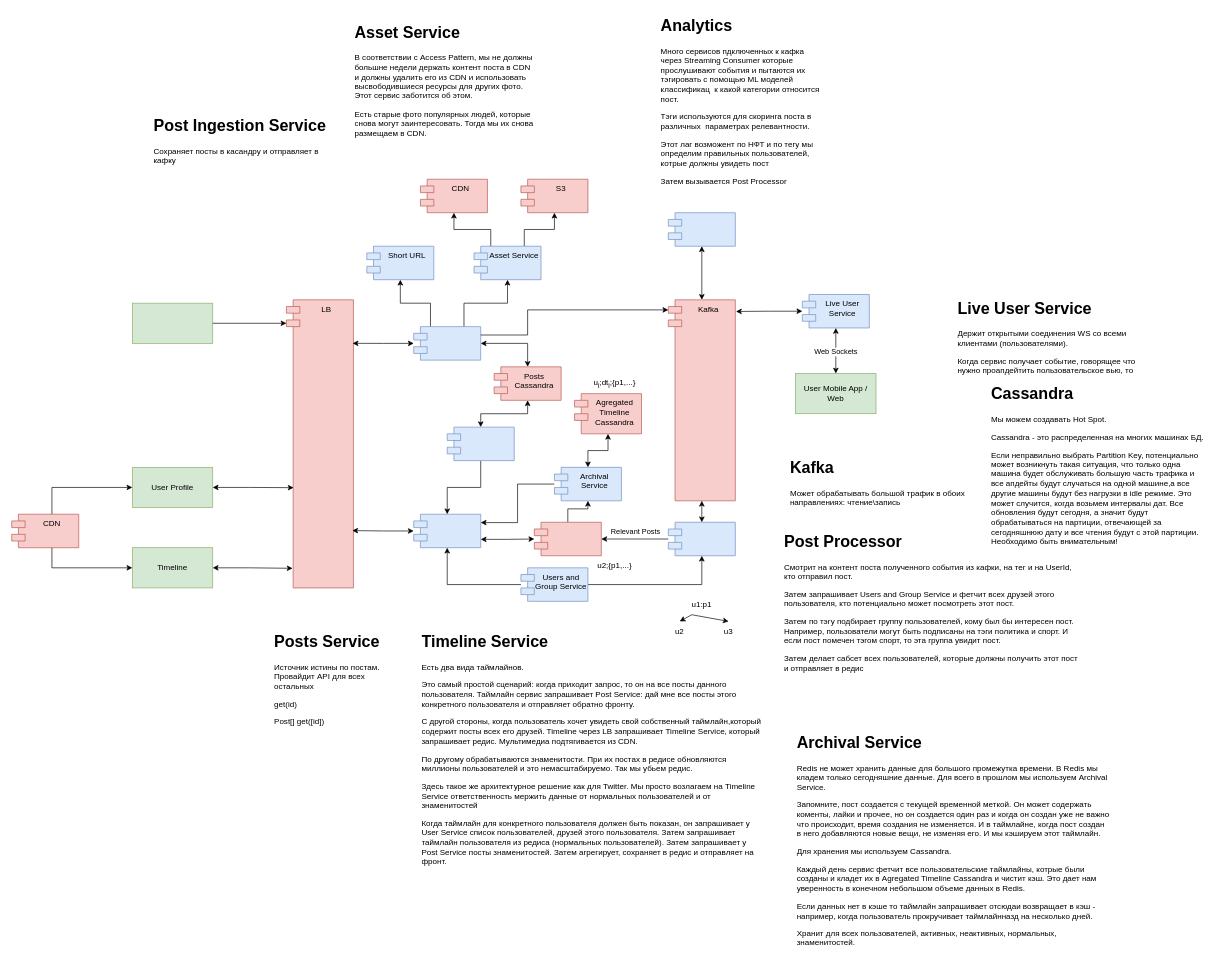
This 1216x969 diagram has some shape labels left out. The centre of each missing label's shape, as x and y in pixels:
"Add Post" belongs at (x=172, y=323).
"Analytics" belongs at (x=701, y=229).
"Post Ingestion Service" belongs at (x=447, y=343).
"Post Processor" belongs at (x=701, y=539).
"Posts Service" belongs at (x=480, y=443).
"Redis" belongs at (x=567, y=539).
"Timeline Service" belongs at (x=447, y=531).
